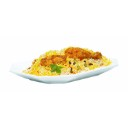briyani: (27, 47, 110, 73)
